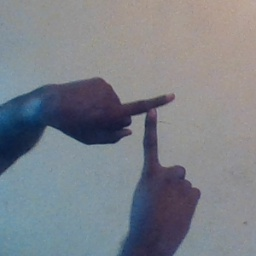T: (85, 67, 206, 197)
